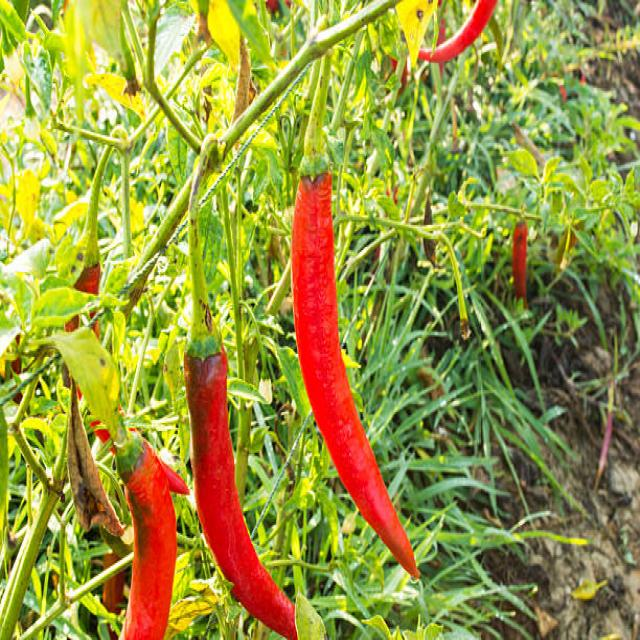Ripe: (291, 171, 419, 576), (184, 352, 296, 638), (118, 434, 176, 640), (419, 0, 498, 61)
